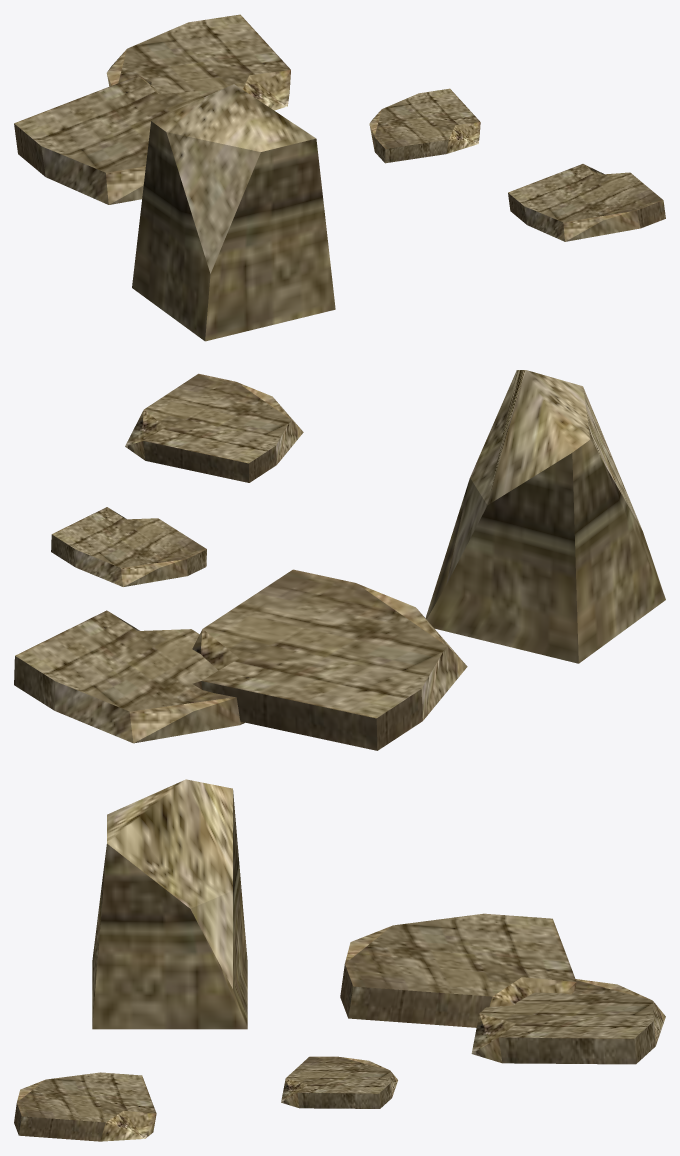
3 views of the same model, one above another, from view 1: azimuth 30°, elevation 25°; view 2: azimuth 150°, elevation 25°; view 3: azimuth 270°, elevation 25° (orthographic). The views are drawn at different scales.
Visible parts, largest first — view 1: a29; view 2: a29; view 3: a29.
Boxes of the visible parts, x1,y1,x2,y2 form: a29: [14, 14, 665, 341]; a29: [14, 370, 665, 750]; a29: [14, 779, 665, 1141].
Bounding box in the file's own units: 895 × 410 × 1102.
